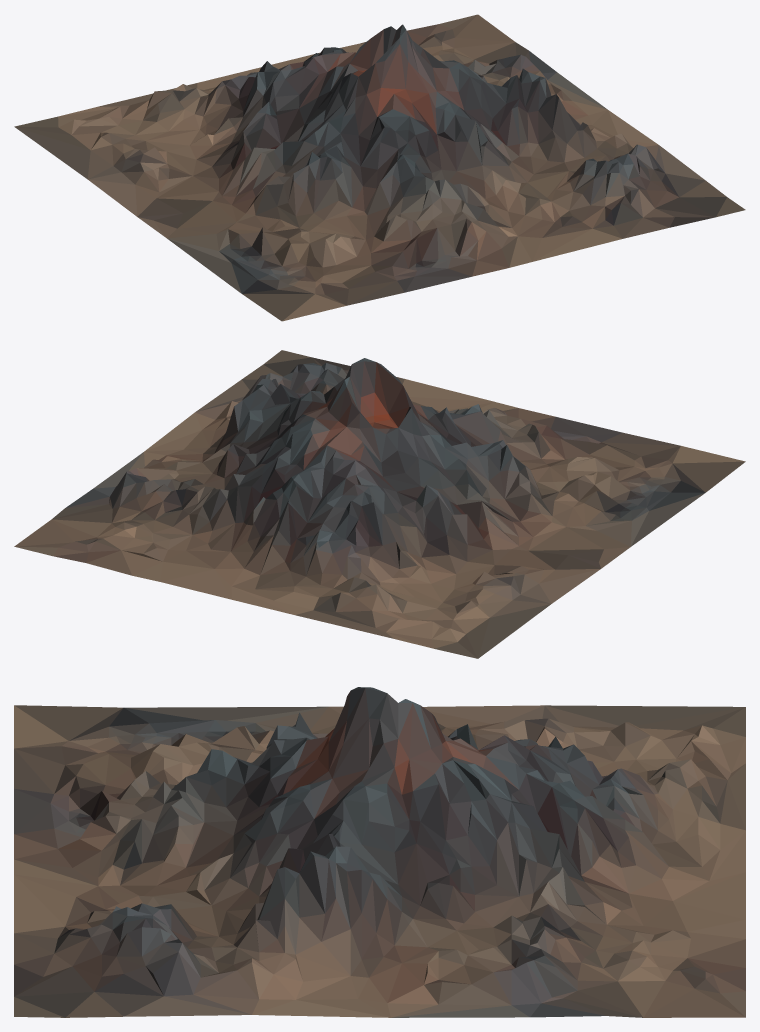
The model's file is Volcanic_C.fbx.
3 views of the same model, one above another, from view 1: azimuth 30°, elevation 25°; view 2: azimuth 150°, elevation 25°; view 3: azimuth 270°, elevation 25° (orthographic). The views are drawn at different scales.
Parts seen in each view (by area): view 1: Volcanic_C; view 2: Volcanic_C; view 3: Volcanic_C.
Boxes of the visible parts, left/top/right/bottom form: Volcanic_C: left=14, top=14, right=745, bottom=321; Volcanic_C: left=14, top=350, right=745, bottom=658; Volcanic_C: left=14, top=687, right=745, bottom=1017.
Size of the model in its own units: 10000 by 2854 by 10000.
